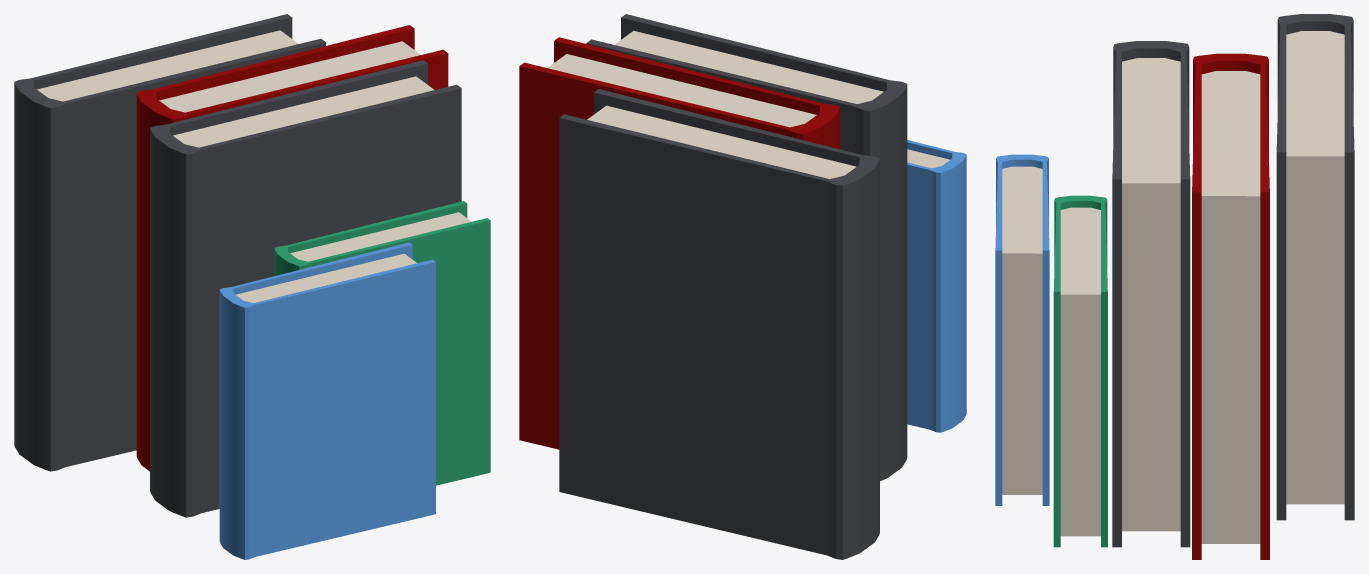
Rendered from BookPile5.fbx.
3 views of the same model, side by side, from view 1: azimuth 30°, elevation 25°; view 2: azimuth 150°, elevation 25°; view 3: azimuth 270°, elevation 25° (orthographic). The views are drawn at different scales.
Parts seen in each view (by area): view 1: polySurface110; view 2: polySurface110; view 3: polySurface110.
Part boxes in pixels (x1,y1,x2,y2): polySurface110: (14,14,490,559); polySurface110: (519,14,966,559); polySurface110: (995,14,1354,559).
Size of the model in its own units: 0.5816 by 0.5599 by 0.4955.
